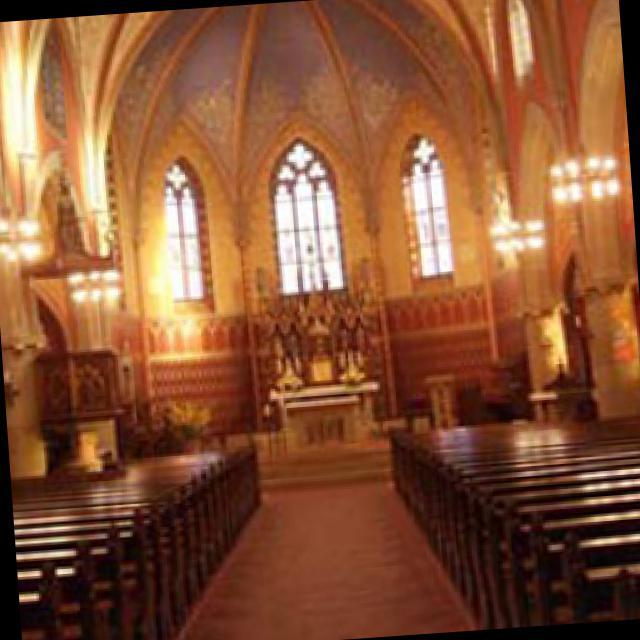2001: (265, 134, 340, 290), (395, 131, 449, 274), (159, 152, 206, 308), (34, 23, 61, 133), (503, 0, 530, 84)
altar: (265, 376, 374, 446)
benches crop: (385, 410, 640, 625), (11, 442, 257, 640)
floor -X: (14, 413, 640, 640)
pulpit: (31, 342, 118, 420)
steps: (256, 438, 387, 490)
wall clock: (104, 0, 527, 454), (0, 10, 162, 494), (455, 0, 640, 423)
